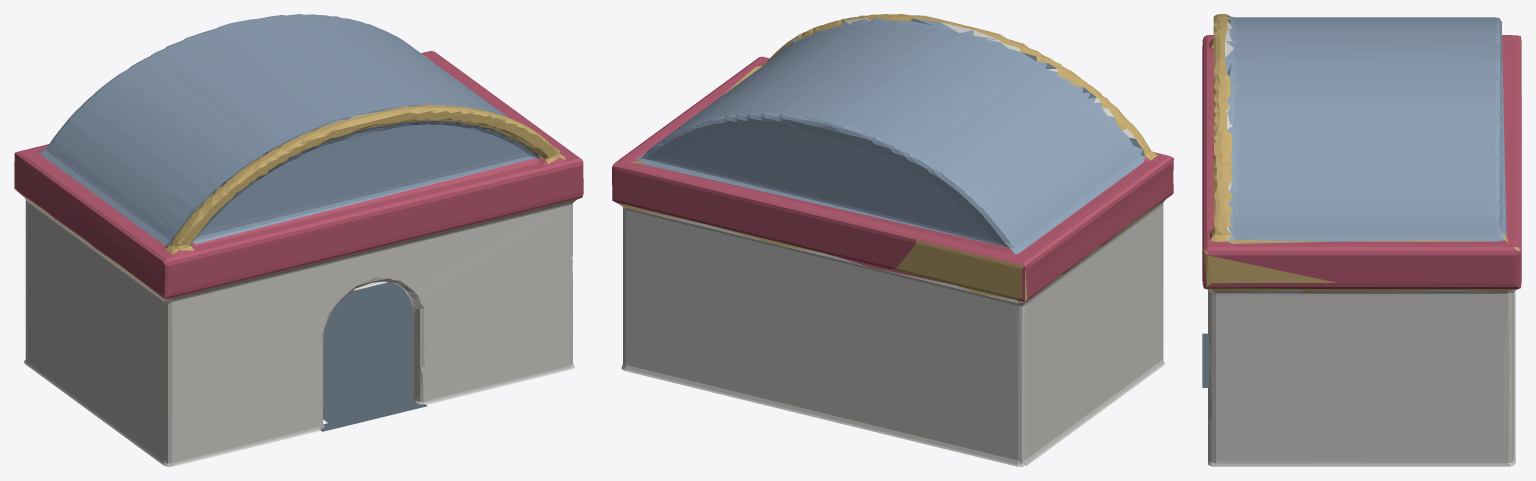
The picture shows the model from 3 angles, left to right: view 1: azimuth 30°, elevation 25°; view 2: azimuth 150°, elevation 25°; view 3: azimuth 270°, elevation 25°; orthographic projection. The views are drawn at different scales.
Parts seen in each view (by area): view 1: geometry_0; view 2: geometry_0; view 3: geometry_0.
Part boxes in pixels (left/top/right/bottom): geometry_0: left=14, top=14, right=583, bottom=466; geometry_0: left=612, top=14, right=1173, bottom=466; geometry_0: left=1202, top=14, right=1521, bottom=466.
Bounding box in the file's own units: 0.926 × 0.6231 × 0.5772.
